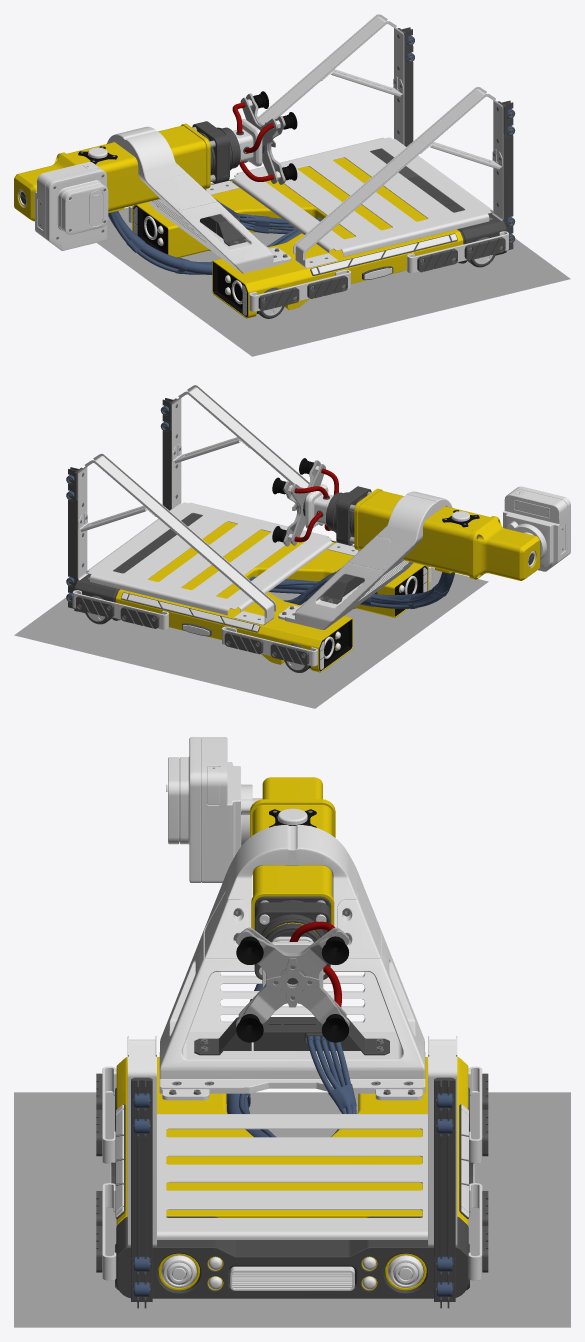
The model's file is moto_bot.fbx.
The picture shows the model from 3 angles, top to bottom: view 1: azimuth 30°, elevation 25°; view 2: azimuth 150°, elevation 25°; view 3: azimuth 270°, elevation 25°; orthographic projection. The views are drawn at different scales.
Visible parts, largest first — view 1: shdw, load_paltform_01, body, glider_support_01, shaft_support_01, arm_chassis_01, motor_chassis_01, bumper_rubber_01, shelf_Gliders_wheels_Chassis_01, cables_01, backPlate, bumper_frame_01 (+9 smaller); view 2: shdw, load_paltform_01, body, glider_support_01, arm_chassis_01, shaft_support_01, motor_chassis_01, bumper_rubber_01, shelf_Gliders_wheels_Chassis_01, cables_01, backPlate, bumper_frame_01 (+9 smaller); view 3: shdw, shaft_support_01, load_paltform_01, body, motor_chassis_01, shelf_Gliders_wheels_Chassis_01, arm_chassis_01, glider_support_01, grap_platfrom_01, cable_housing_unity_01, bumper_frame_01, front_fins_01 (+10 smaller).
Part boxes in pixels (x1=…): shdw: x1=97, y1=207, x2=570, y2=356; load_paltform_01: x1=232, y1=137, x2=493, y2=256; body: x1=132, y1=148, x2=506, y2=318; glider_support_01: x1=205, y1=14, x2=503, y2=268; shaft_support_01: x1=107, y1=126, x2=291, y2=273; arm_chassis_01: x1=14, y1=123, x2=210, y2=221; motor_chassis_01: x1=35, y1=162, x2=108, y2=250; bumper_rubber_01: x1=210, y1=183, x2=505, y2=310; shelf_Gliders_wheels_Chassis_01: x1=397, y1=27, x2=513, y2=252; cables_01: x1=108, y1=198, x2=321, y2=274; backPlate: x1=133, y1=205, x2=258, y2=316; bumper_frame_01: x1=128, y1=205, x2=508, y2=311; shdw: x1=14, y1=568, x2=488, y2=708; load_paltform_01: x1=86, y1=502, x2=332, y2=615; body: x1=74, y1=513, x2=428, y2=672; glider_support_01: x1=77, y1=385, x2=359, y2=625; arm_chassis_01: x1=354, y1=488, x2=540, y2=580; shaft_support_01: x1=278, y1=491, x2=452, y2=629; motor_chassis_01: x1=503, y1=486, x2=570, y2=571; bumper_rubber_01: x1=76, y1=544, x2=354, y2=665; shelf_Gliders_wheels_Chassis_01: x1=68, y1=398, x2=176, y2=611; cables_01: x1=249, y1=572, x2=454, y2=608; backPlate: x1=309, y1=566, x2=427, y2=671; bumper_frame_01: x1=72, y1=566, x2=432, y2=666; shdw: x1=14, y1=1092, x2=570, y2=1327; shaft_support_01: x1=159, y1=825, x2=425, y2=1100; load_paltform_01: x1=157, y1=1114, x2=427, y2=1239; body: x1=116, y1=1057, x2=468, y2=1298; motor_chassis_01: x1=166, y1=737, x2=262, y2=882; shelf_Gliders_wheels_Chassis_01: x1=131, y1=1077, x2=455, y2=1308; arm_chassis_01: x1=250, y1=777, x2=335, y2=964; glider_support_01: x1=127, y1=1036, x2=457, y2=1246; grap_platfrom_01: x1=236, y1=927, x2=349, y2=1026; cable_housing_unity_01: x1=194, y1=1017, x2=389, y2=1055; bumper_frame_01: x1=102, y1=1066, x2=482, y2=1280; front_fins_01: x1=230, y1=1266, x2=354, y2=1290.
Bounding box in the file's own units: 173 × 60.2 × 119.
